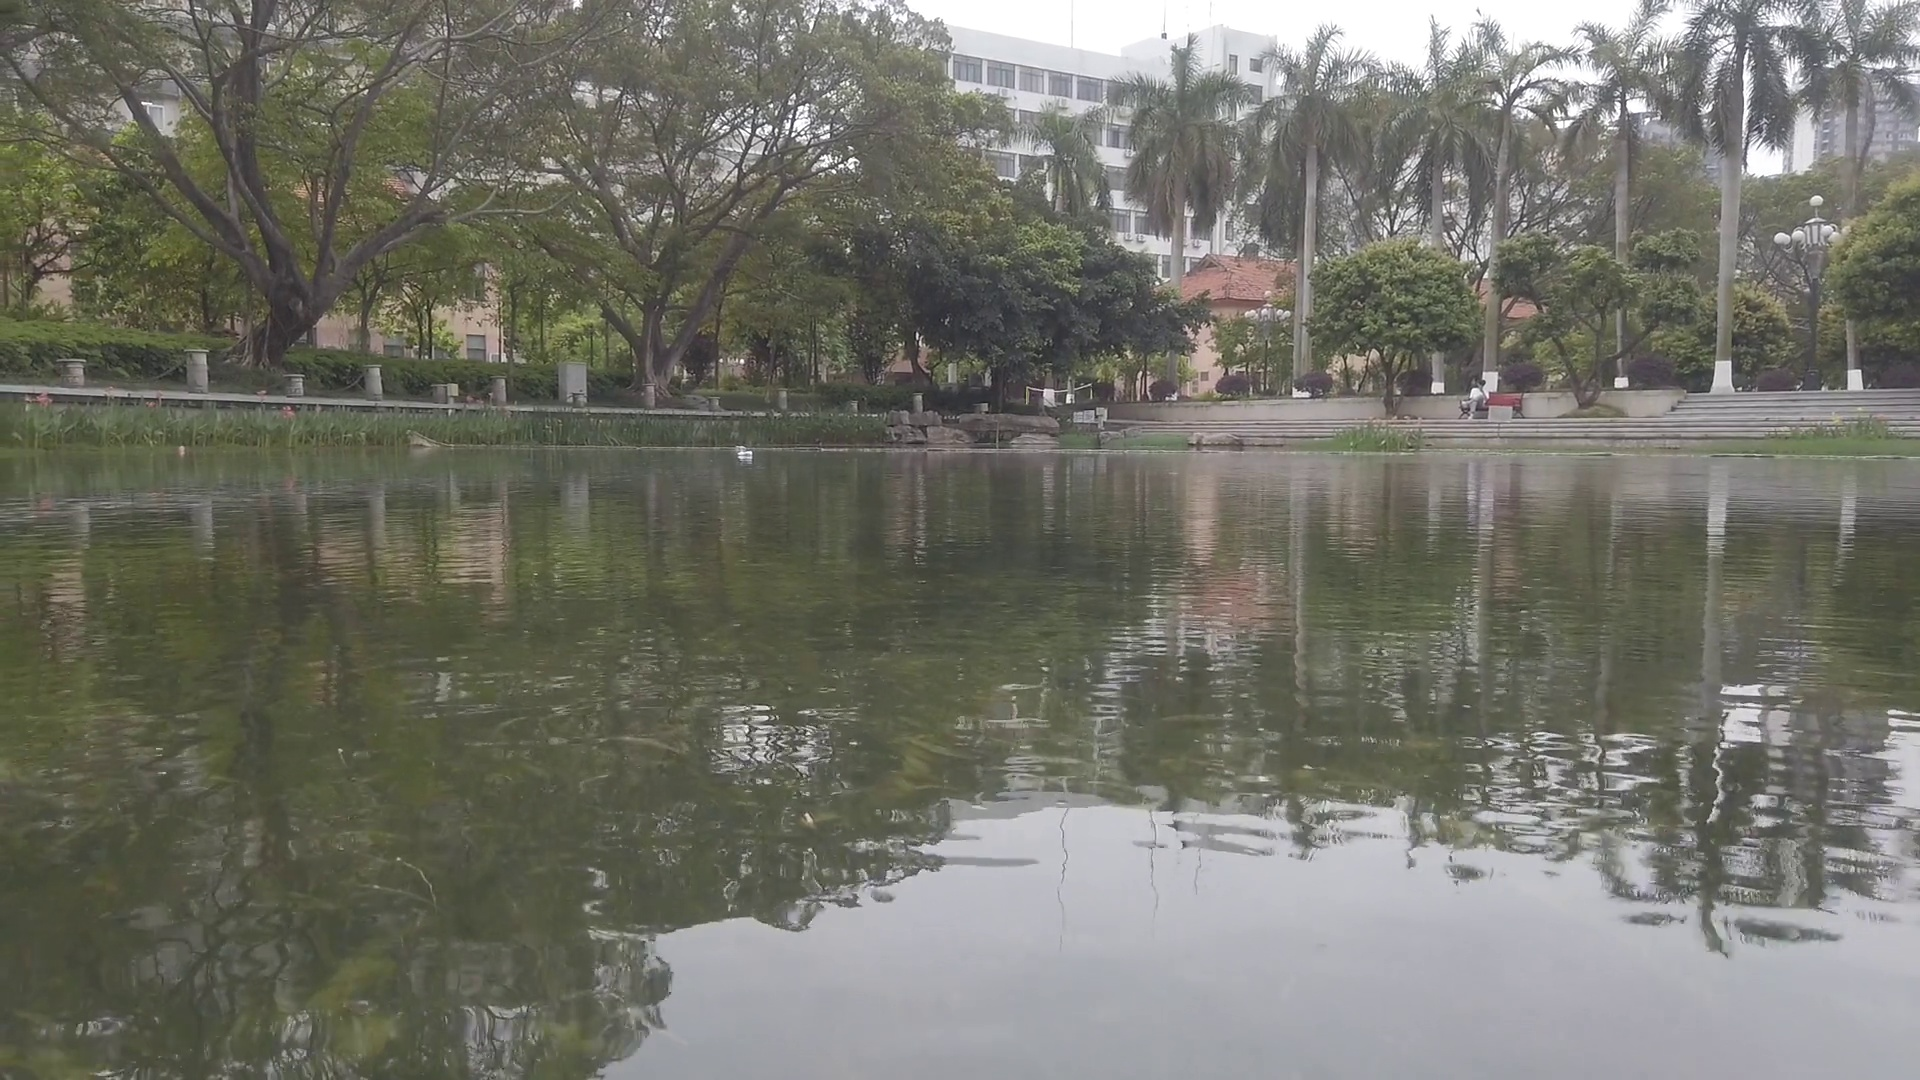bottle: (738, 450, 752, 458), (177, 446, 185, 452)
